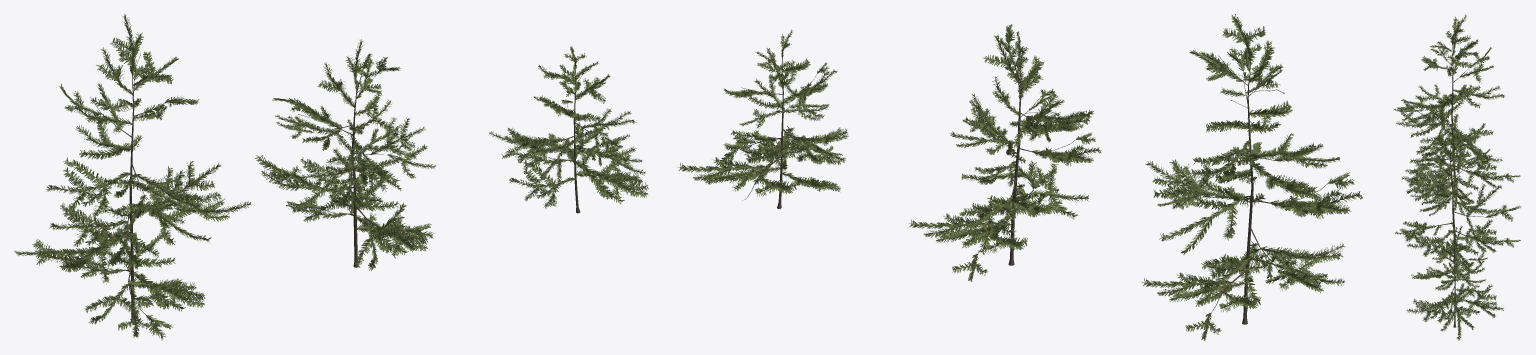
Rendered from fir_sapling_4k.gltf.
3 renders of one model, left to right at view 1: azimuth 30°, elevation 25°; view 2: azimuth 150°, elevation 25°; view 3: azimuth 270°, elevation 25°, orthographic. The views are drawn at different scales.
Parts seen in each view (by area): view 1: fir_sapling_a, fir_sapling_b, fir_sapling_c; view 2: fir_sapling_a, fir_sapling_b, fir_sapling_c; view 3: fir_sapling_a, fir_sapling_b, fir_sapling_c.
Part boxes in pixels (bbox=[...]): fir_sapling_a: bbox=[14, 14, 251, 340]; fir_sapling_b: bbox=[255, 39, 435, 270]; fir_sapling_c: bbox=[489, 46, 648, 213]; fir_sapling_a: bbox=[1142, 14, 1363, 340]; fir_sapling_b: bbox=[908, 24, 1101, 281]; fir_sapling_c: bbox=[677, 29, 848, 208]; fir_sapling_a: bbox=[1394, 14, 1520, 211]; fir_sapling_b: bbox=[1395, 128, 1520, 276]; fir_sapling_c: bbox=[1406, 221, 1503, 340].
Size of the model in its own units: 2.74 by 1.3 by 0.8264.
2 materials, 2 textured.
